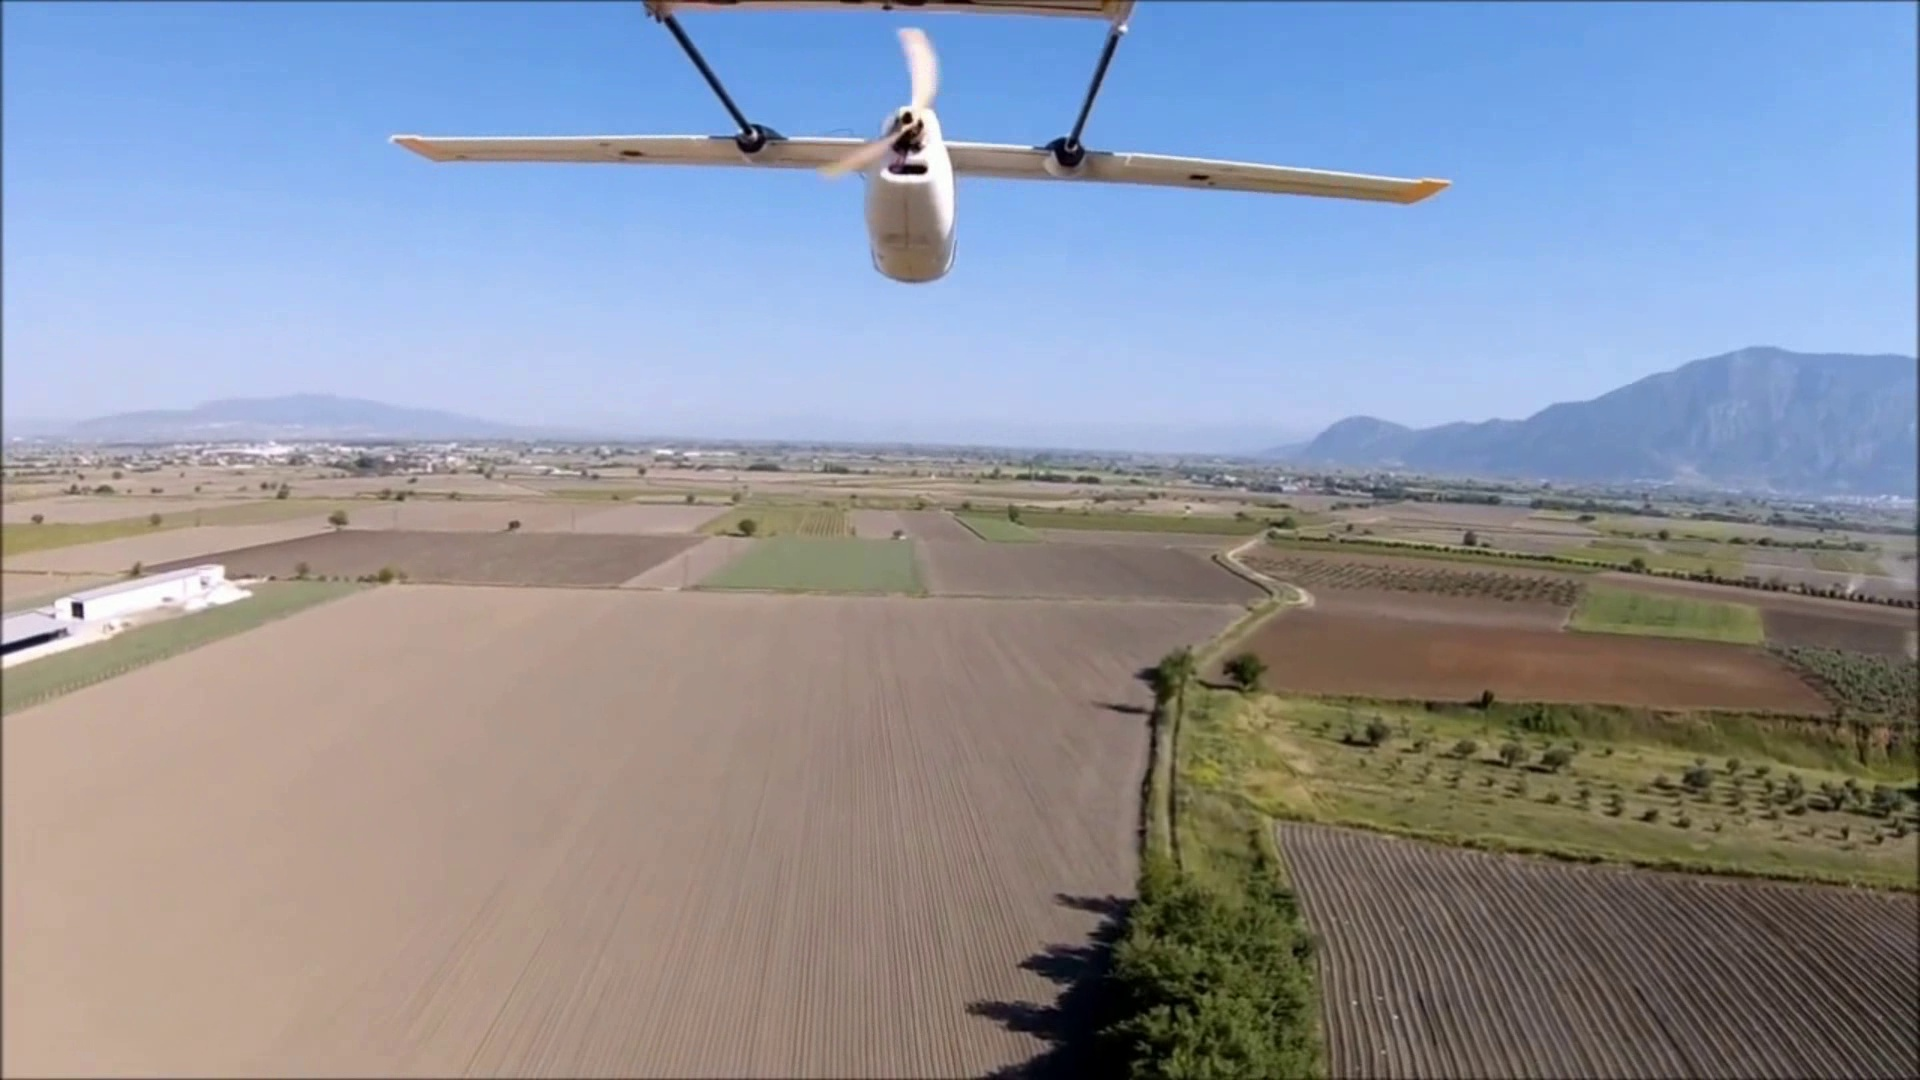airplane: (391, 7, 1450, 283)
